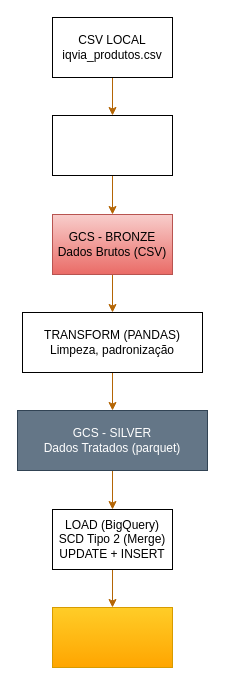
This 225x685 diagram has some shape labels left out. Here are the shapes that lost their labels. From the top down, the centre of each, then its label:
At point (112, 145): "EXTRACT (Python) Upload para GCS".
At point (112, 637): "BIGQUERY - GOLD dim_produto com histórico".
